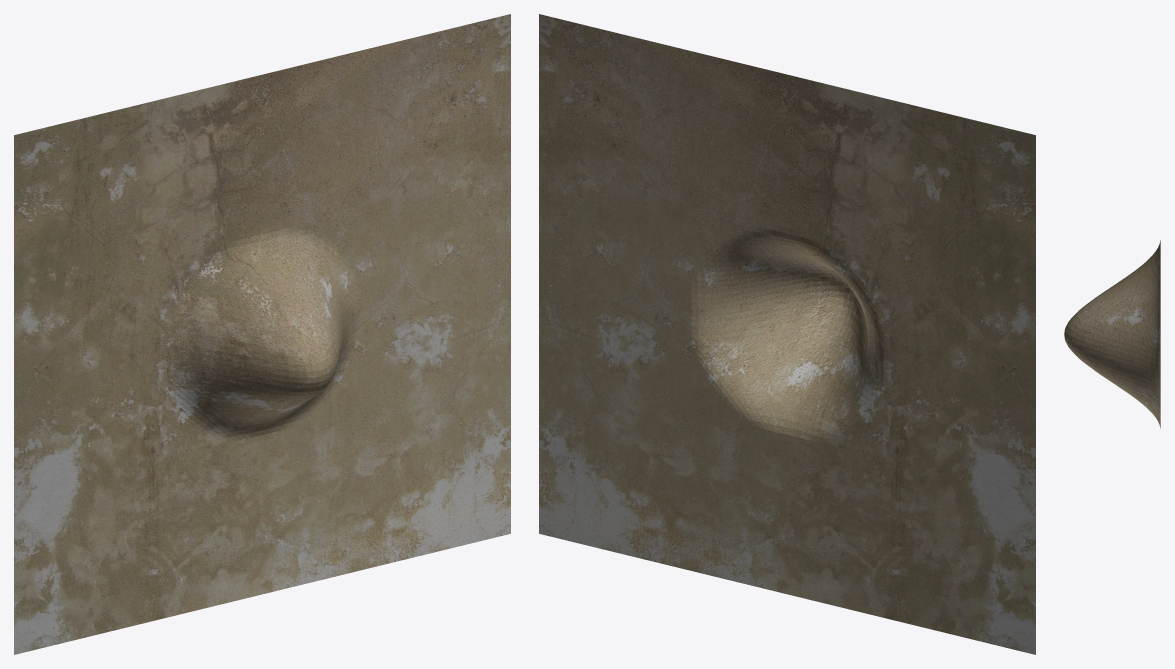
File: singlepeak.obj
3 views of the same model, side by side, from view 1: azimuth 30°, elevation 25°; view 2: azimuth 150°, elevation 25°; view 3: azimuth 270°, elevation 25° (orthographic). The views are drawn at different scales.
Parts seen in each view (by area): view 1: 平面; view 2: 平面; view 3: 平面.
Part boxes in pixels (x1,y1,x2,y2): 平面: (14, 14, 510, 654); 平面: (539, 14, 1035, 654); 平面: (1064, 240, 1160, 428).
Size of the model in its own units: 10 by 10 by 2.
